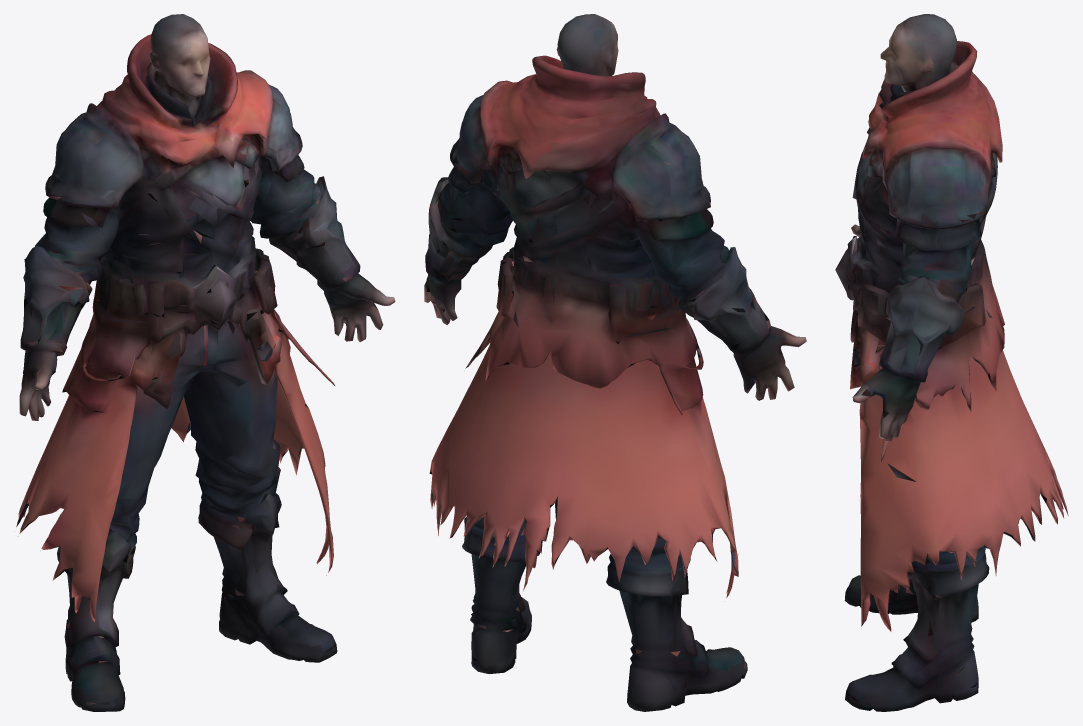
Rendered from bandit_chief.glb.
3 renders of one model, left to right at view 1: azimuth 30°, elevation 25°; view 2: azimuth 150°, elevation 25°; view 3: azimuth 270°, elevation 25°, orthographic. The views are drawn at different scales.
Visible parts, largest first — view 1: bandit_chief; view 2: bandit_chief; view 3: bandit_chief.
Boxes of the visible parts, box(x1,y1,x2,y2) form: bandit_chief: box(16, 14, 395, 711); bandit_chief: box(424, 14, 806, 711); bandit_chief: box(835, 14, 1068, 711).
Size of the model in its own units: 1.09 by 1.85 by 0.6143.
1 material, 1 textured.
